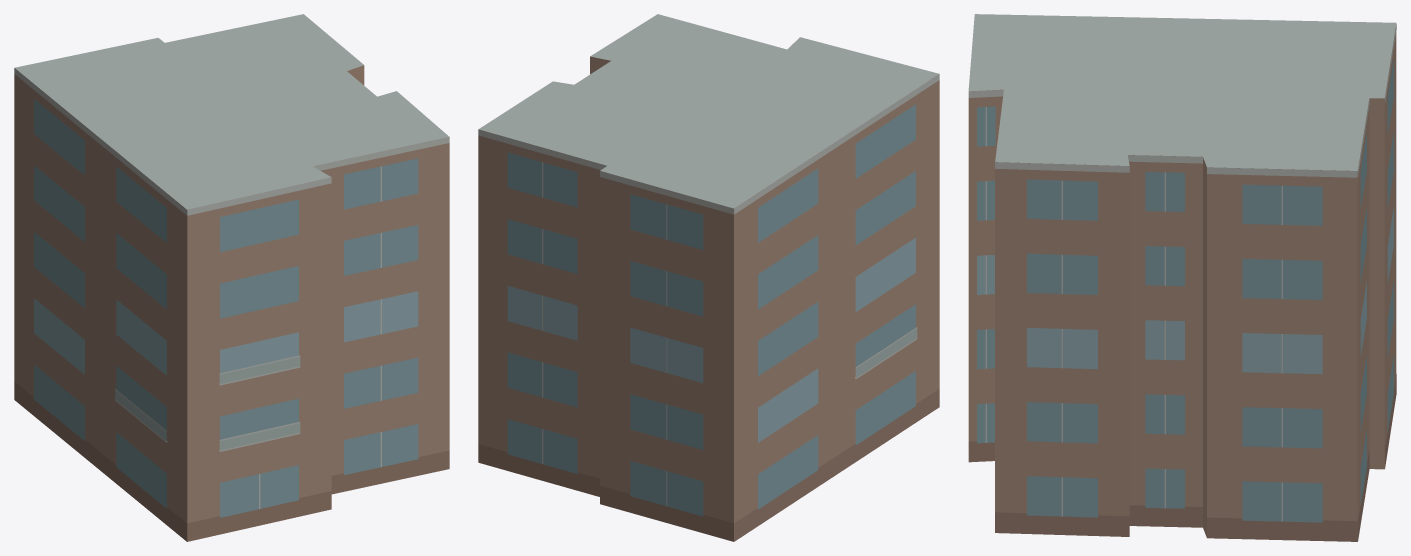
The model's file is survey-upis-32458927.glb.
3 renders of one model, left to right at view 1: azimuth 30°, elevation 25°; view 2: azimuth 150°, elevation 25°; view 3: azimuth 270°, elevation 25°, orthographic. The views are drawn at different scales.
Visible parts, largest first — view 1: survey-upis-32458927.tmp; view 2: survey-upis-32458927.tmp; view 3: survey-upis-32458927.tmp.
Part boxes in pixels (x1=…): survey-upis-32458927.tmp: x1=14, y1=14, x2=449, y2=541; survey-upis-32458927.tmp: x1=478, y1=14, x2=939, y2=541; survey-upis-32458927.tmp: x1=968, y1=14, x2=1396, y2=541.
Size of the model in its own units: 12.15 by 13.38 by 14.
